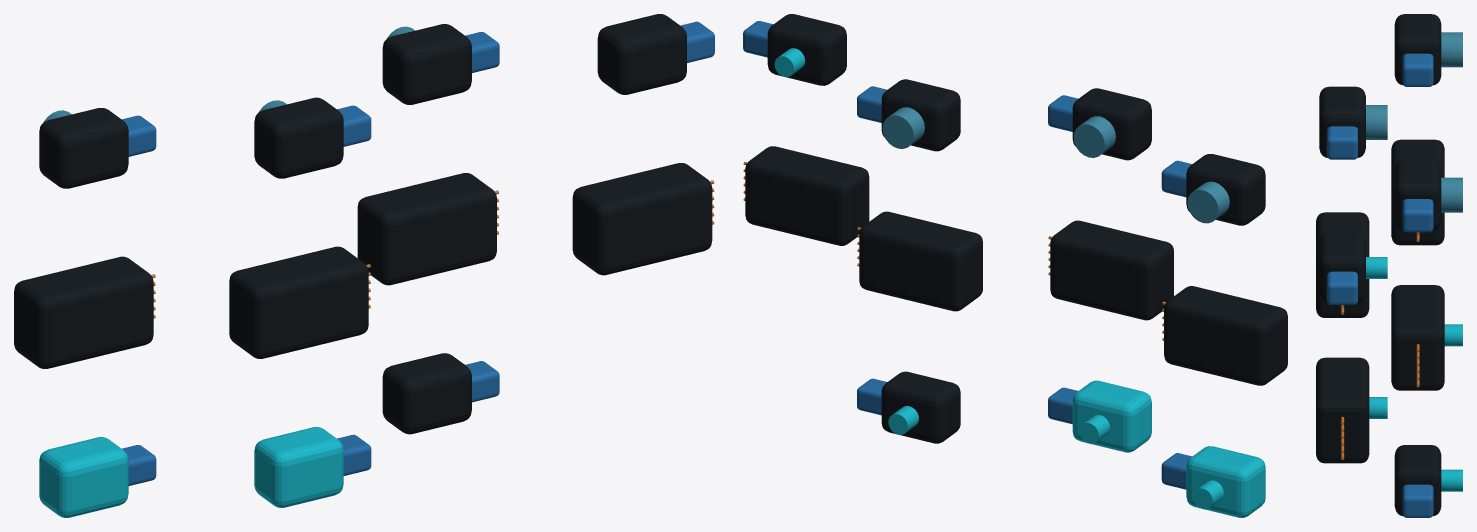
The model's file is generic_adas.glb.
3 views of the same model, side by side, from view 1: azimuth 30°, elevation 25°; view 2: azimuth 150°, elevation 25°; view 3: azimuth 270°, elevation 25° (orthographic). The views are drawn at different scales.
Parts seen in each view (by area): view 1: system_mesh__aeb_module__housing, system_mesh__parking_module__housing, system_mesh__lane_keep_module__housing, system_mesh__adaptive_cruise_module__housing, system_mesh__front_adas_camera__sealed_body, system_mesh__ultrasonic_array__sealed_body, system_mesh__parking_sensors__sealed_body, system_mesh__surround_cameras__sealed_body, system_mesh__reverse_camera__sealed_body, system_mesh__front_radar__sealed_body, system_mesh__blind_spot_module__sealed_body, system_mesh__front_adas_camera__connector (+6 smaller); view 2: system_mesh__parking_module__housing, system_mesh__adaptive_cruise_module__housing, system_mesh__aeb_module__housing, system_mesh__lane_keep_module__housing, system_mesh__parking_sensors__sealed_body, system_mesh__ultrasonic_array__sealed_body, system_mesh__front_radar__sealed_body, system_mesh__blind_spot_module__sealed_body, system_mesh__front_adas_camera__sealed_body, system_mesh__surround_cameras__sealed_body, system_mesh__reverse_camera__sealed_body, system_mesh__reverse_camera__sensing_element (+13 smaller); view 3: system_mesh__adaptive_cruise_module__housing, system_mesh__aeb_module__housing, system_mesh__surround_cameras__sealed_body, system_mesh__ultrasonic_array__sealed_body, system_mesh__reverse_camera__sealed_body, system_mesh__front_adas_camera__sealed_body, system_mesh__parking_module__housing, system_mesh__parking_sensors__sealed_body, system_mesh__lane_keep_module__housing, system_mesh__ultrasonic_array__connector, system_mesh__surround_cameras__connector, system_mesh__reverse_camera__connector (+9 smaller).
Part boxes in pixels (x1=…): system_mesh__aeb_module__housing: x1=572, y1=163, x2=712, y2=275; system_mesh__parking_module__housing: x1=14, y1=256, x2=153, y2=368; system_mesh__lane_keep_module__housing: x1=229, y1=246, x2=368, y2=358; system_mesh__adaptive_cruise_module__housing: x1=357, y1=173, x2=496, y2=285; system_mesh__front_adas_camera__sealed_body: x1=254, y1=97, x2=343, y2=178; system_mesh__ultrasonic_array__sealed_body: x1=382, y1=353, x2=471, y2=434; system_mesh__parking_sensors__sealed_body: x1=597, y1=14, x2=686, y2=94; system_mesh__surround_cameras__sealed_body: x1=382, y1=24, x2=471, y2=104; system_mesh__reverse_camera__sealed_body: x1=39, y1=108, x2=128, y2=188; system_mesh__front_radar__sealed_body: x1=254, y1=427, x2=343, y2=507; system_mesh__blind_spot_module__sealed_body: x1=39, y1=437, x2=128, y2=517; system_mesh__front_adas_camera__connector: x1=337, y1=105, x2=371, y2=146; system_mesh__parking_module__housing: x1=1164, y1=286, x2=1287, y2=385; system_mesh__adaptive_cruise_module__housing: x1=859, y1=211, x2=982, y2=311; system_mesh__aeb_module__housing: x1=745, y1=146, x2=869, y2=245; system_mesh__lane_keep_module__housing: x1=1050, y1=220, x2=1173, y2=320; system_mesh__parking_sensors__sealed_body: x1=767, y1=14, x2=846, y2=85; system_mesh__ultrasonic_array__sealed_body: x1=881, y1=371, x2=960, y2=443; system_mesh__front_radar__sealed_body: x1=1072, y1=380, x2=1151, y2=452; system_mesh__blind_spot_module__sealed_body: x1=1186, y1=446, x2=1265, y2=517; system_mesh__front_adas_camera__sealed_body: x1=1072, y1=88, x2=1151, y2=160; system_mesh__surround_cameras__sealed_body: x1=881, y1=79, x2=960, y2=151; system_mesh__reverse_camera__sealed_body: x1=1186, y1=154, x2=1265, y2=225; system_mesh__reverse_camera__sensing_element: x1=1187, y1=181, x2=1229, y2=223; system_mesh__adaptive_cruise_module__housing: x1=1391, y1=285, x2=1444, y2=390; system_mesh__aeb_module__housing: x1=1316, y1=357, x2=1369, y2=463; system_mesh__surround_cameras__sealed_body: x1=1394, y1=159, x2=1441, y2=230; system_mesh__ultrasonic_array__sealed_body: x1=1394, y1=445, x2=1441, y2=515; system_mesh__reverse_camera__sealed_body: x1=1394, y1=14, x2=1441, y2=85; system_mesh__front_adas_camera__sealed_body: x1=1319, y1=86, x2=1365, y2=157; system_mesh__parking_module__housing: x1=1391, y1=139, x2=1444, y2=245; system_mesh__parking_sensors__sealed_body: x1=1319, y1=232, x2=1365, y2=303; system_mesh__lane_keep_module__housing: x1=1316, y1=212, x2=1369, y2=317; system_mesh__ultrasonic_array__connector: x1=1402, y1=484, x2=1433, y2=517; system_mesh__surround_cameras__connector: x1=1402, y1=199, x2=1433, y2=232; system_mesh__reverse_camera__connector: x1=1402, y1=53, x2=1433, y2=86.
Bounding box in the file's own units: 5.81 × 3.32 × 1.32.
